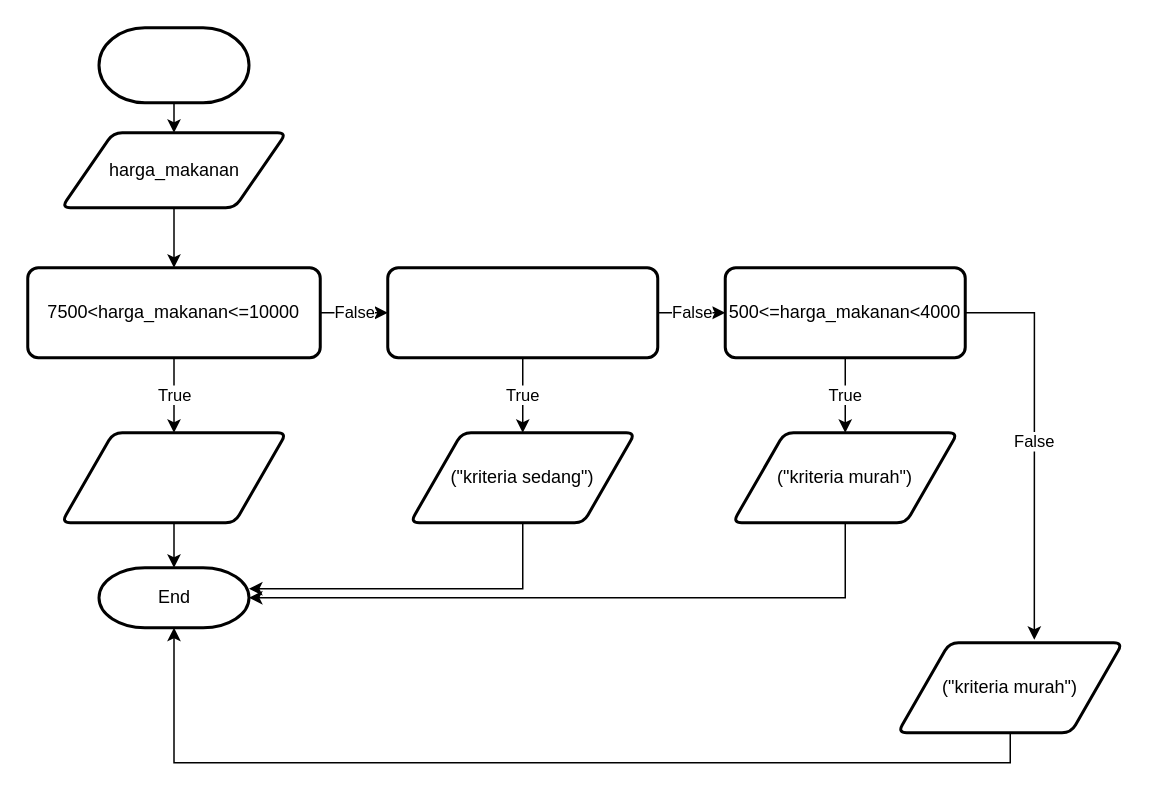
The diagram is 1149 pixels wide and 801 high, and some of its shapes have lost their labels. Here are the shapes that lost their labels. From the top down, the centre of each, then its label:
(x=173, y=65): Start
(x=522, y=312): 4000<=harga_makanan<=7500
(x=173, y=477): ("kriteria mahal")
